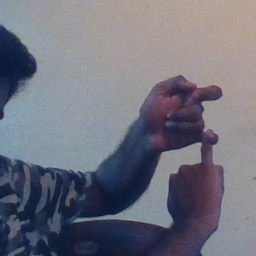S: (131, 62, 242, 229)
